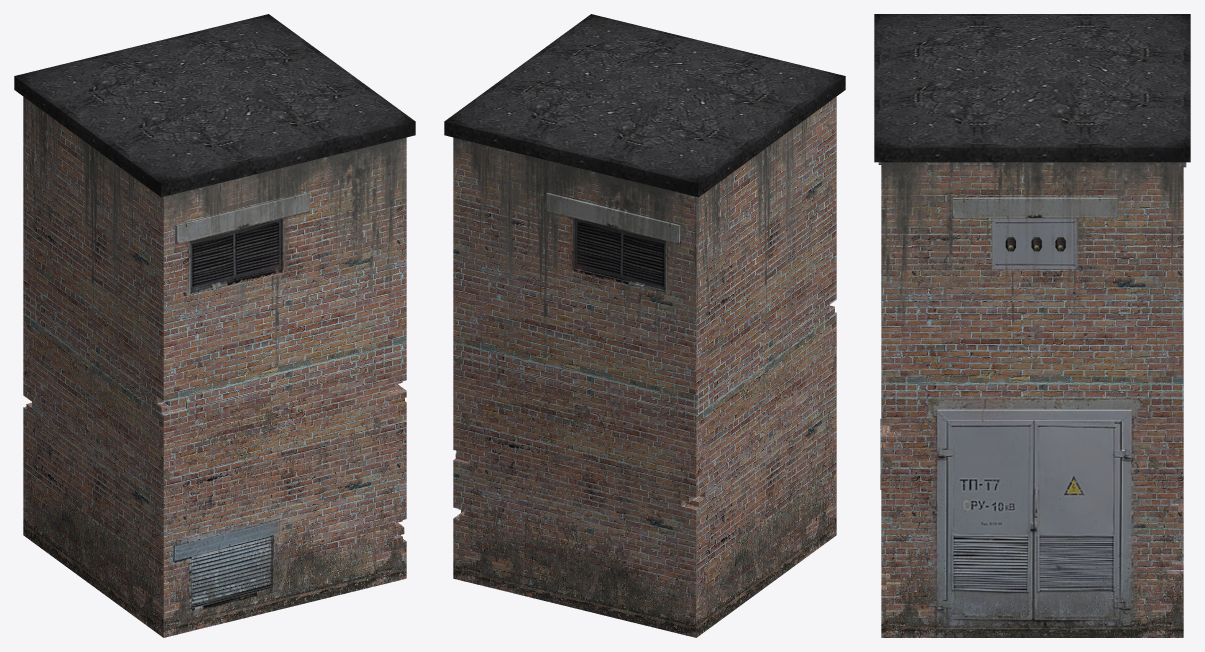
The model's file is transformer.dae.
3 renders of one model, left to right at view 1: azimuth 30°, elevation 25°; view 2: azimuth 150°, elevation 25°; view 3: azimuth 270°, elevation 25°, orthographic. The views are drawn at different scales.
Parts seen in each view (by area): view 1: Mesh31 Model; view 2: Mesh31 Model; view 3: Mesh31 Model.
Part boxes in pixels (box(x1,y1,x2,y2)): Mesh31 Model: box(14, 14, 415, 637); Mesh31 Model: box(444, 14, 845, 637); Mesh31 Model: box(874, 14, 1190, 637).
Size of the model in its own units: 3.47 by 3.31 by 5.93.
2 materials, 1 textured.
